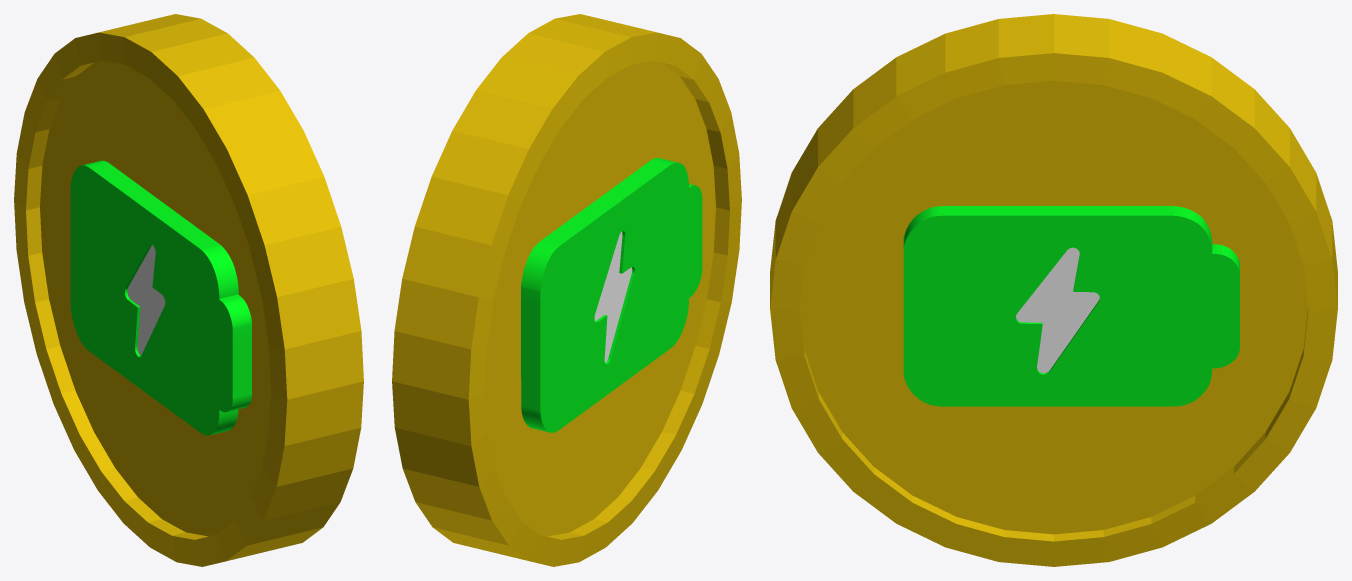
Rendered from BatteryCoin2.fbx.
3 views of the same model, side by side, from view 1: azimuth 30°, elevation 25°; view 2: azimuth 150°, elevation 25°; view 3: azimuth 270°, elevation 25° (orthographic). The views are drawn at different scales.
Visible parts, largest first — view 1: Body, Front, Lightning; view 2: Body, Front, Lightning; view 3: Body, Back, Lightning.
Boxes of the visible parts, bbox=[...] form: Body: bbox=[14, 14, 363, 566]; Front: bbox=[70, 160, 251, 435]; Lightning: bbox=[127, 244, 165, 355]; Body: bbox=[392, 14, 741, 566]; Front: bbox=[521, 158, 702, 432]; Lightning: bbox=[594, 231, 632, 362]; Body: bbox=[770, 14, 1337, 566]; Back: bbox=[903, 206, 1239, 406]; Lightning: bbox=[1016, 247, 1099, 373].
Size of the model in its own units: 598 by 116 by 598.
